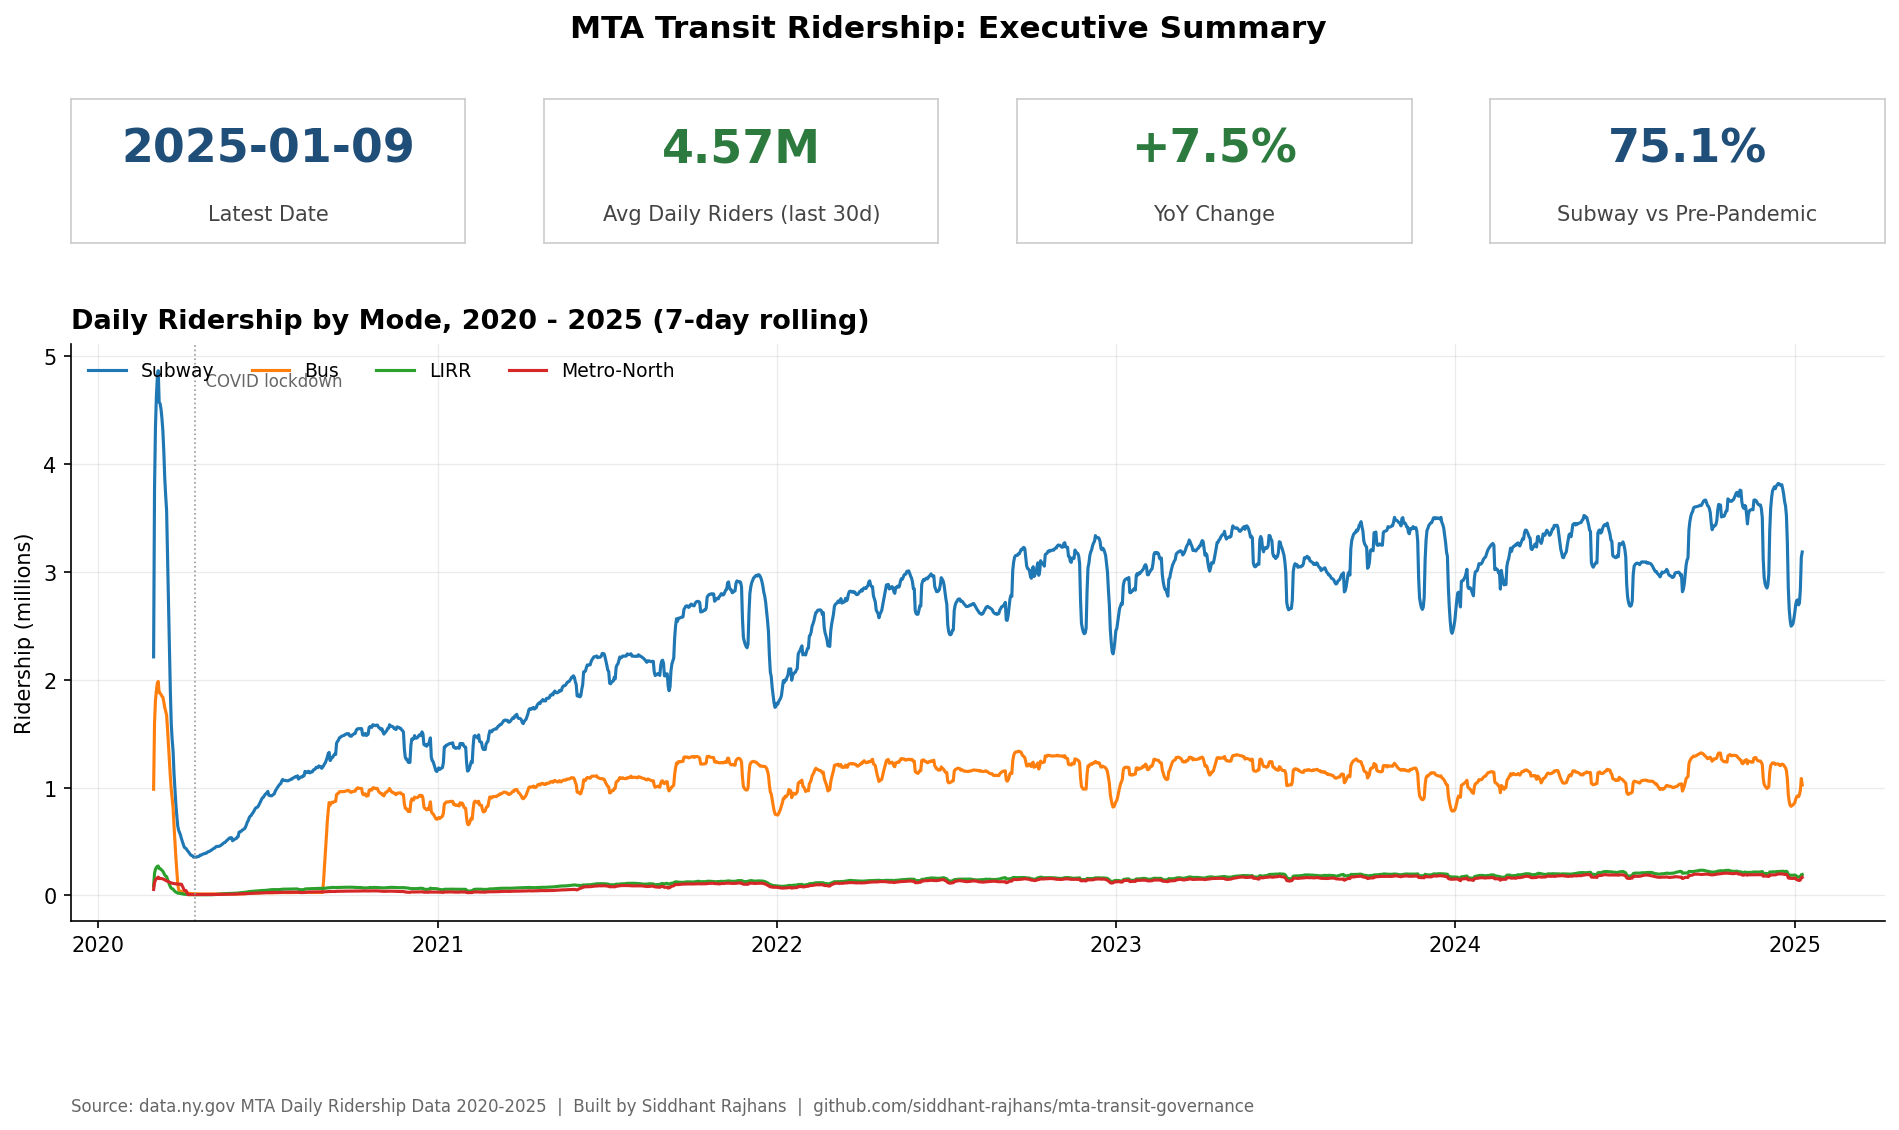

This screenshot's page, from the dashboard's own definition file:
{"tool":"powerbi","page":{"name":"Executive Summary","canvas":[1280,720],"ordinal":0},"visuals":[{"type":"cardVisual","fields":{"Data":["_Measures.Avg Daily Riders 30d"]},"box":[30,110,290,130],"z":0},{"type":"cardVisual","fields":{"Data":["_Measures.Latest Date"]},"box":[630,110,290,130],"z":1000},{"type":"cardVisual","fields":{"Data":["_Measures.YoY Change %"]},"box":[330,110,290,130],"z":2000},{"type":"cardVisual","fields":{"Data":["_Measures.Subway Pre-Pandemic %"]},"box":[930,110,290,130],"z":3000},{"type":"lineChart","fields":{"Y":["_Measures.Total Subway Riders","_Measures.Total Bus Riders","_Measures.Total LIRR Riders","_Measures.Total MNR Riders"],"Category":["daily_ridership.date"]},"box":[30,260,810,390],"z":4000},{"type":"gauge","fields":{"Y":["_Measures.Pass Rate %"]},"box":[855,260,350,390],"z":5000},{"type":"textbox","box":[30,18,1180,80],"z":6000},{"type":"textbox","box":[30,688,1180,30],"z":7000}]}

Visuals, with their boxes on the page's 1280x720 design canvas (x1, y1, x2, y2). These are canvas units, not pixel positions in the 1899x1130 screenshot, which may show the page scaled, cropped or inside an application window:
cardVisual - _Measures.Avg Daily Riders 30d: box(30, 110, 320, 240)
cardVisual - _Measures.Latest Date: box(630, 110, 920, 240)
cardVisual - _Measures.YoY Change %: box(330, 110, 620, 240)
cardVisual - _Measures.Subway Pre-Pandemic %: box(930, 110, 1220, 240)
lineChart - _Measures.Total Subway Riders x _Measures.Total Bus Riders: box(30, 260, 840, 650)
gauge - _Measures.Pass Rate %: box(855, 260, 1205, 650)
textbox: box(30, 18, 1210, 98)
textbox: box(30, 688, 1210, 718)
